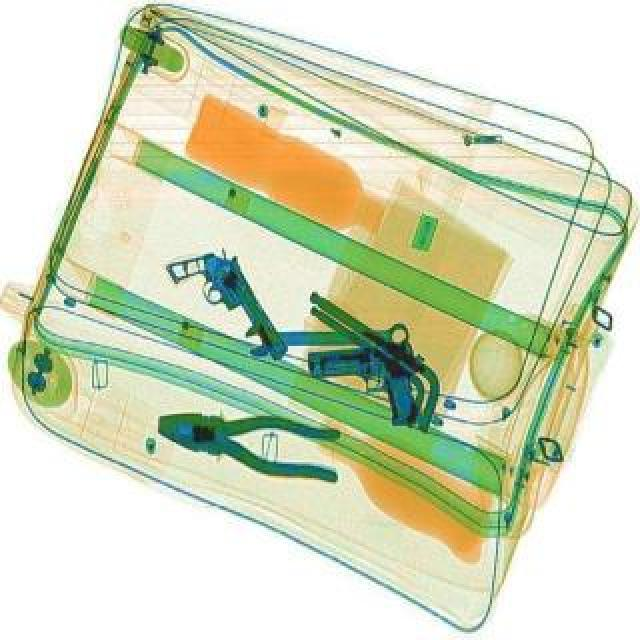gun: (164, 238, 296, 386), (308, 342, 432, 434)
scissors: (244, 320, 412, 360)
wrench: (154, 402, 350, 488)
